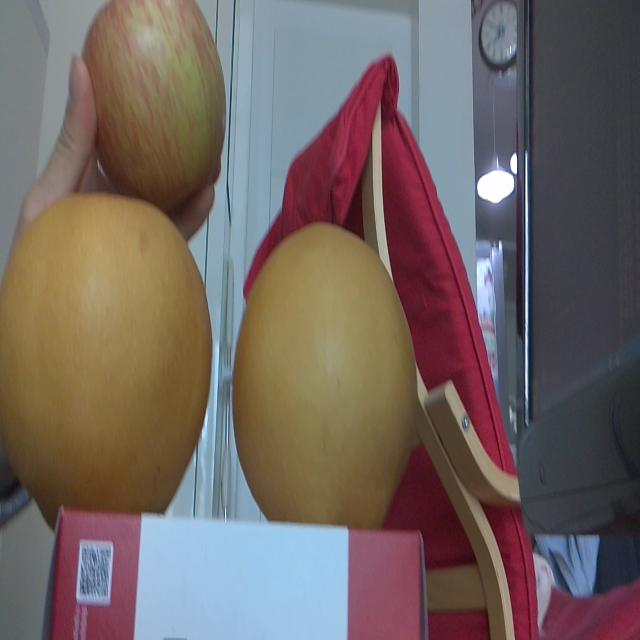apple: (78, 0, 224, 206)
pear: (2, 192, 216, 518), (234, 213, 419, 520)
